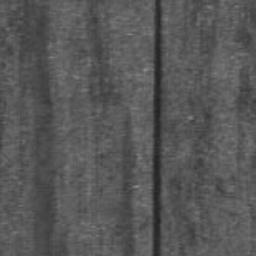Scratches: (153, 0, 162, 256)
